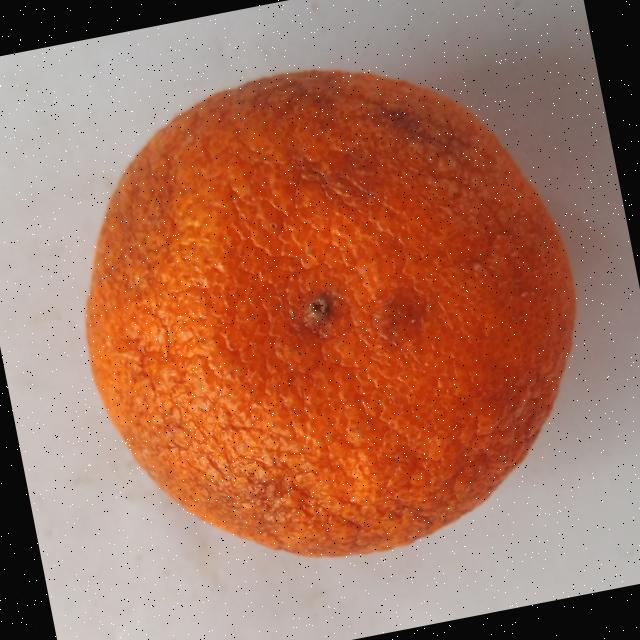overripe: (26, 19, 619, 600)
